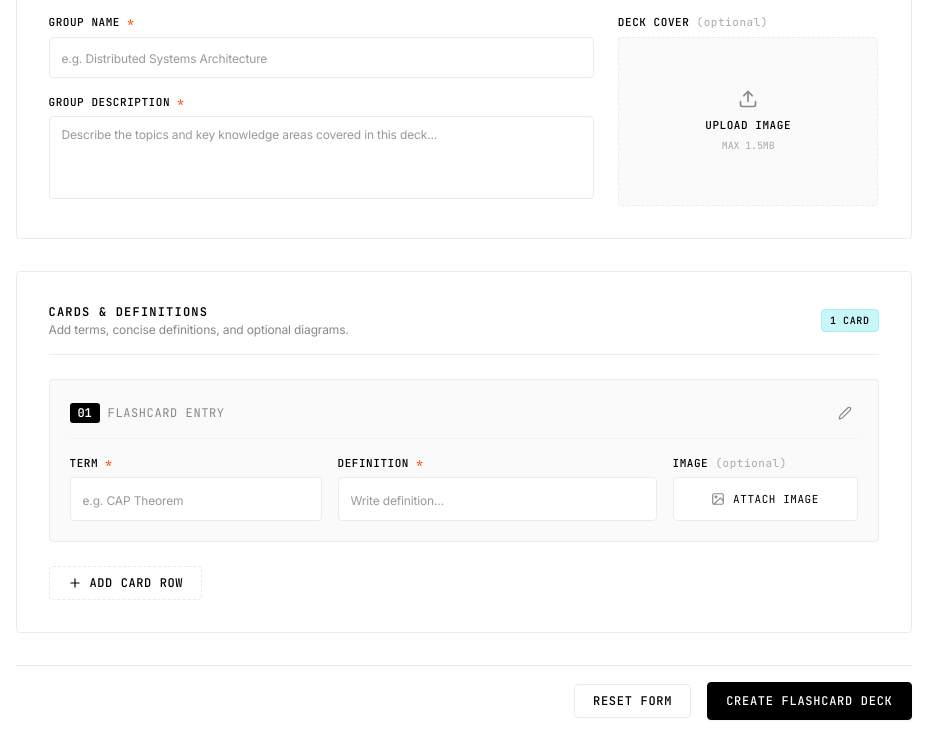
Test: CreateFlashcard component › allows adding and removing card rows
(page scrolled)
Expected: the text "1 CARD" is shown, [821,309,878,332]
# Add a card row
Click the button "Add Card Row" at point(125, 583), box [48,566,202,600]
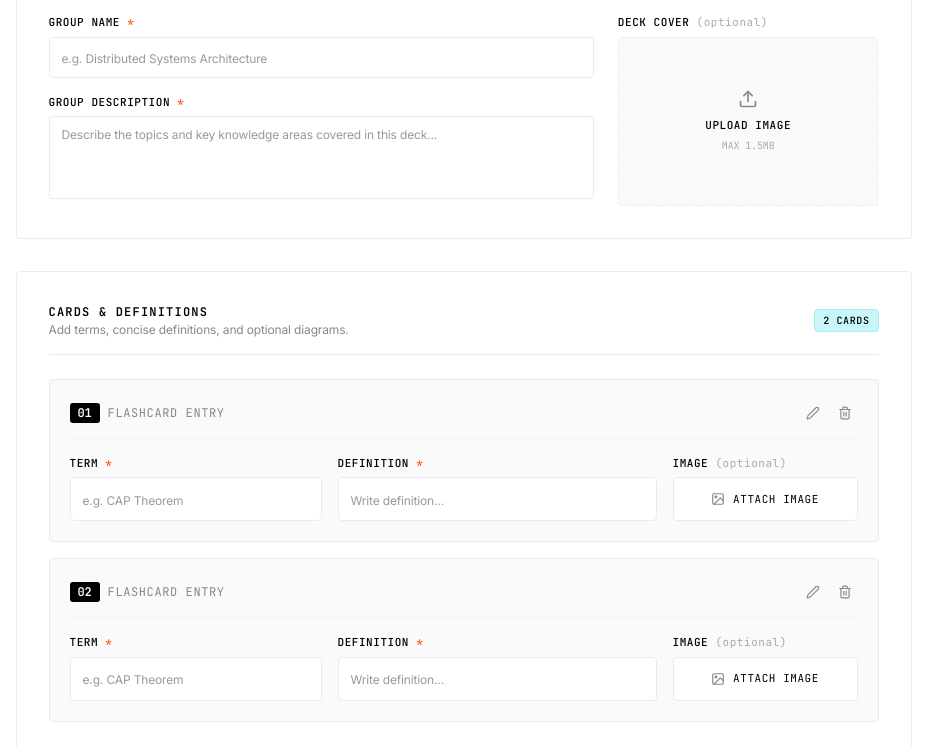
Expected: the text "2 CARDS" is shown, [814,309,878,332]
Expected: the text "02" is shown, [70,582,100,602]
Expected: the number of buttons titled "Delete Card" is 2
# Delete the second card
Click the button titled "Delete Card" in the row of "02" at point(844, 592), box [832,579,858,605]
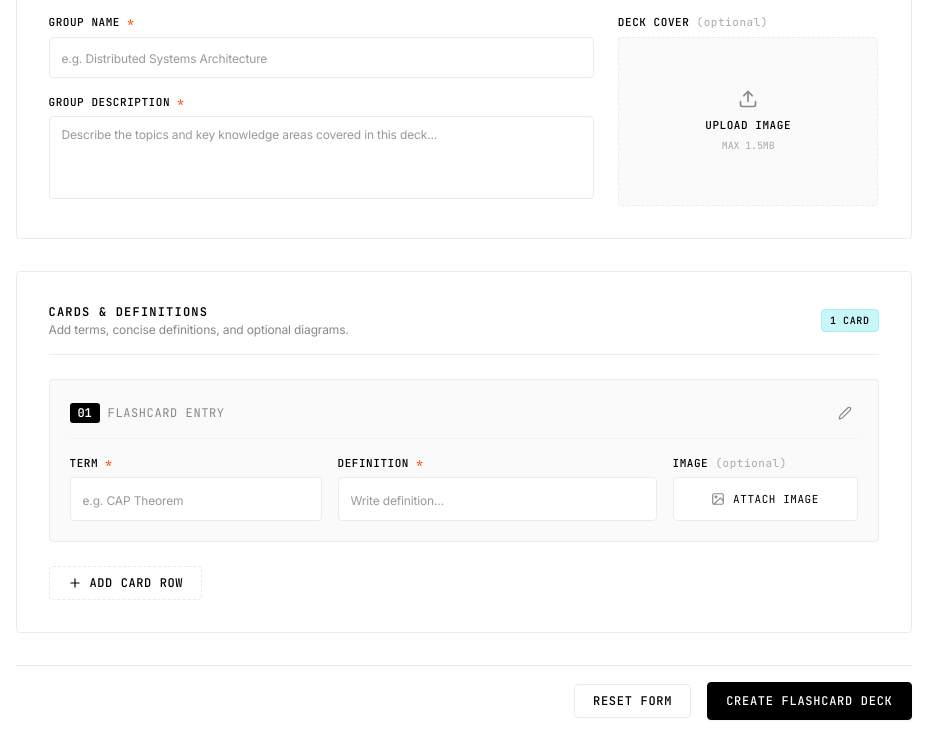
Expected: the text "1 CARD" is shown, [821,309,878,332]
Expected: the text "02" is gone
